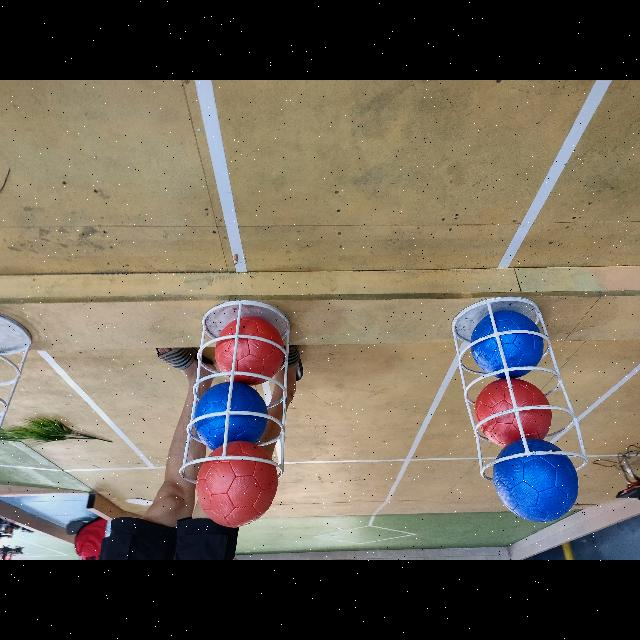B: (494, 441, 580, 522), (196, 382, 268, 450), (472, 310, 544, 378)
R: (196, 442, 278, 528), (475, 379, 551, 448), (214, 316, 286, 384)
